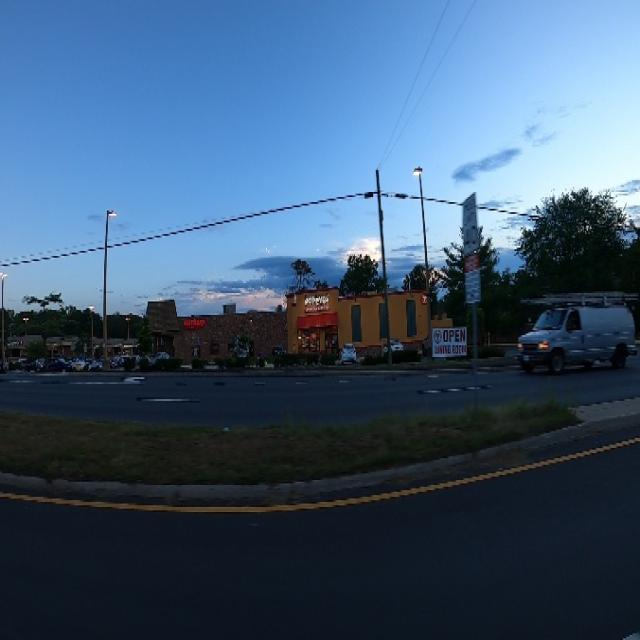cars: (515, 282, 637, 390), (144, 344, 172, 375), (44, 350, 73, 376), (382, 332, 406, 361), (339, 338, 358, 368), (86, 353, 104, 377)
